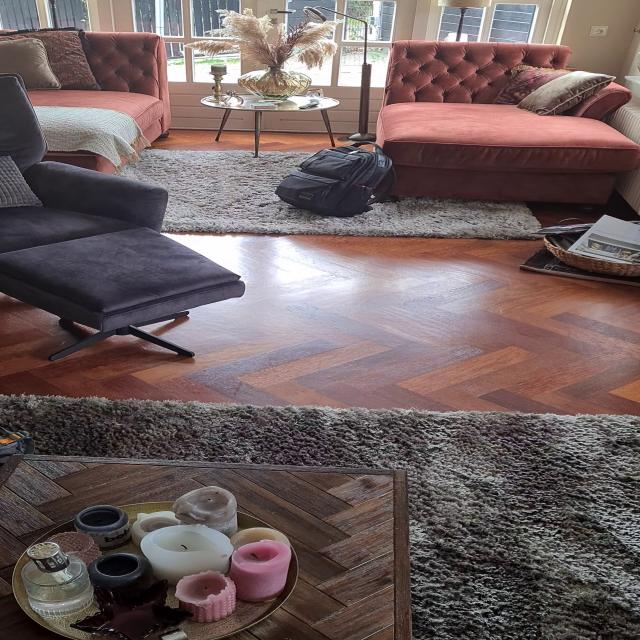backpack: (268, 141, 401, 218)
